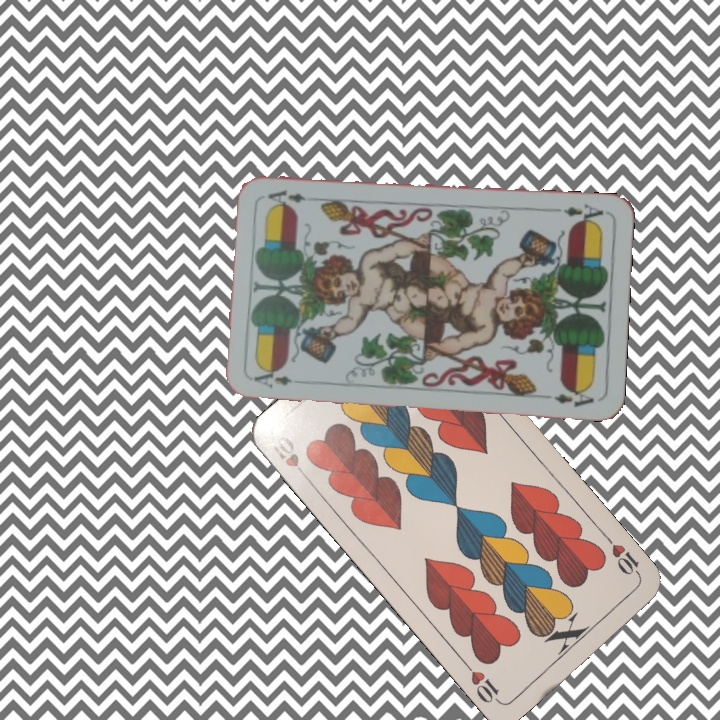EA: (549, 200, 606, 227), (250, 368, 295, 391)
H10: (265, 431, 311, 483), (602, 532, 645, 582)
